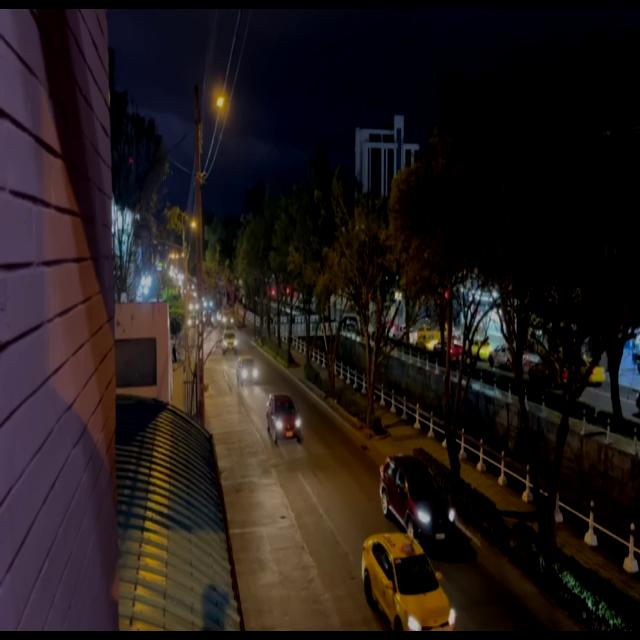CMT: (222, 330, 236, 356)
SUV: (386, 457, 458, 540), (238, 358, 259, 386)
